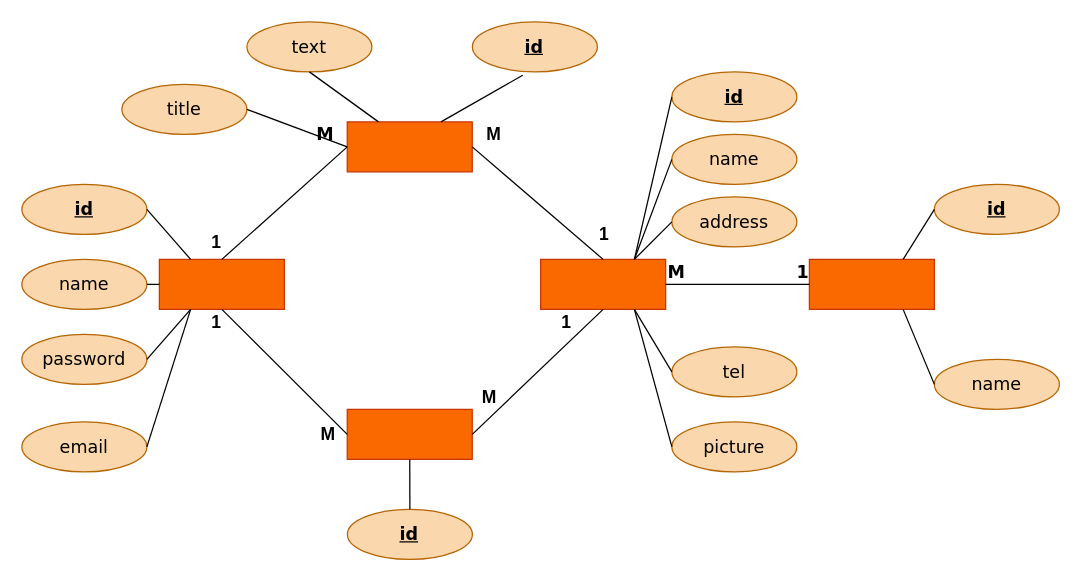
The diagram is 1081 pixels wide and 581 high, and some of its shapes have lost their labels. The box of each missing label's shape, as (x1, y1, x2, y2) in pixels:
Category: (808, 258, 934, 309)
Comment: (346, 121, 472, 172)
Favorite: (346, 408, 472, 459)
Restaurant: (539, 258, 666, 309)
User: (158, 258, 284, 309)
